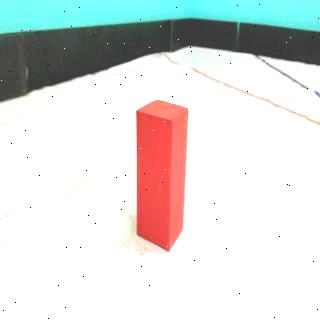redbox: (134, 99, 188, 252)
